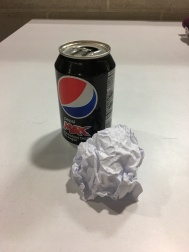can_black: (50, 38, 123, 150)
paper_white: (67, 125, 149, 212)
